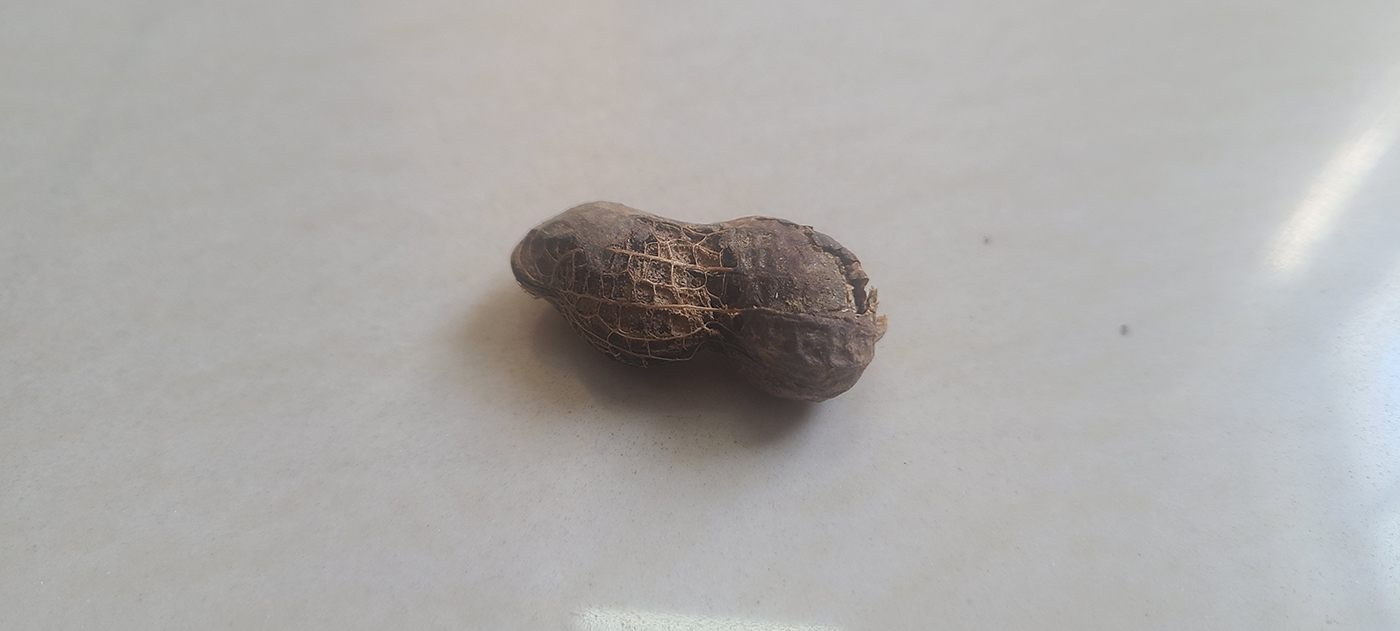l: (509, 199, 878, 397)
